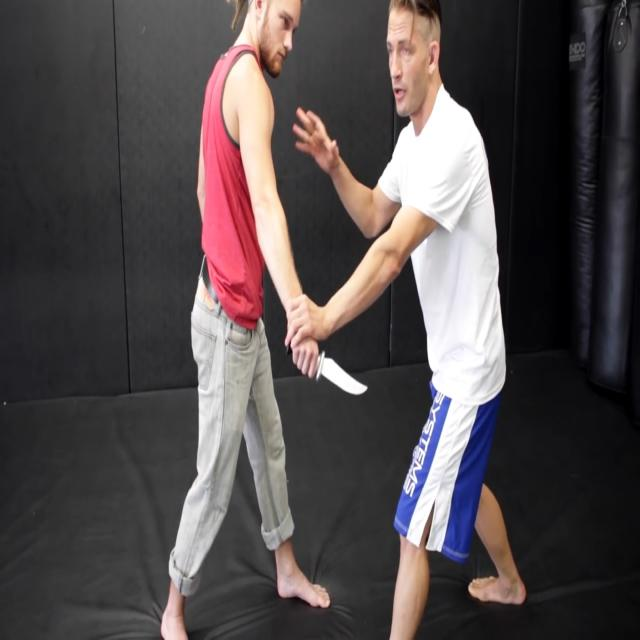knife: (320, 344, 371, 402)
